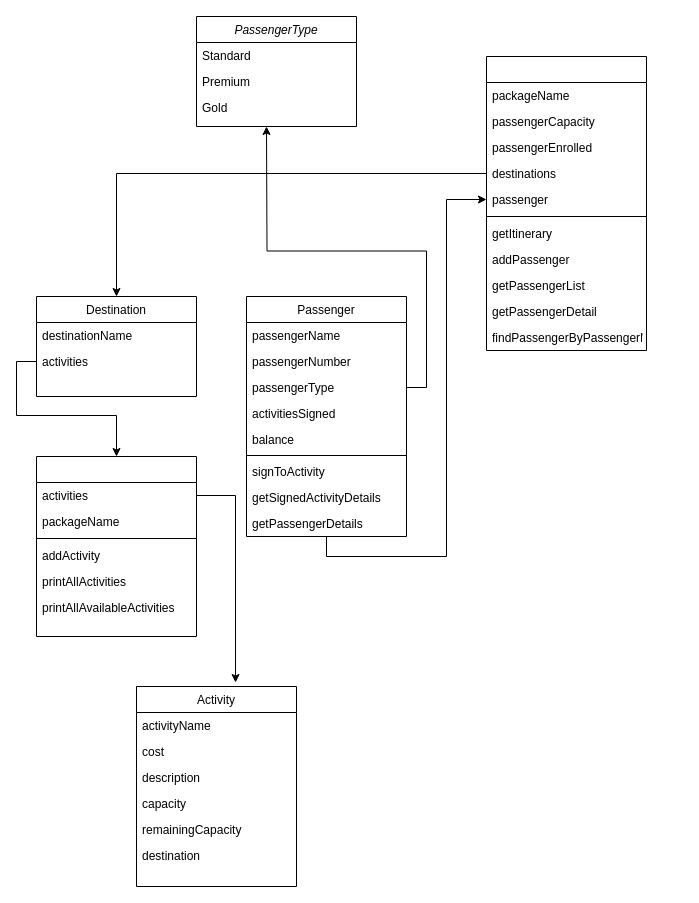
This 699x903 diagram has some shape labels left out. Here are the shapes that lost their labels. From the top down, the box of each, then its label:
(486, 56, 646, 350): Travel Package
(36, 456, 196, 636): ActivitiesList
